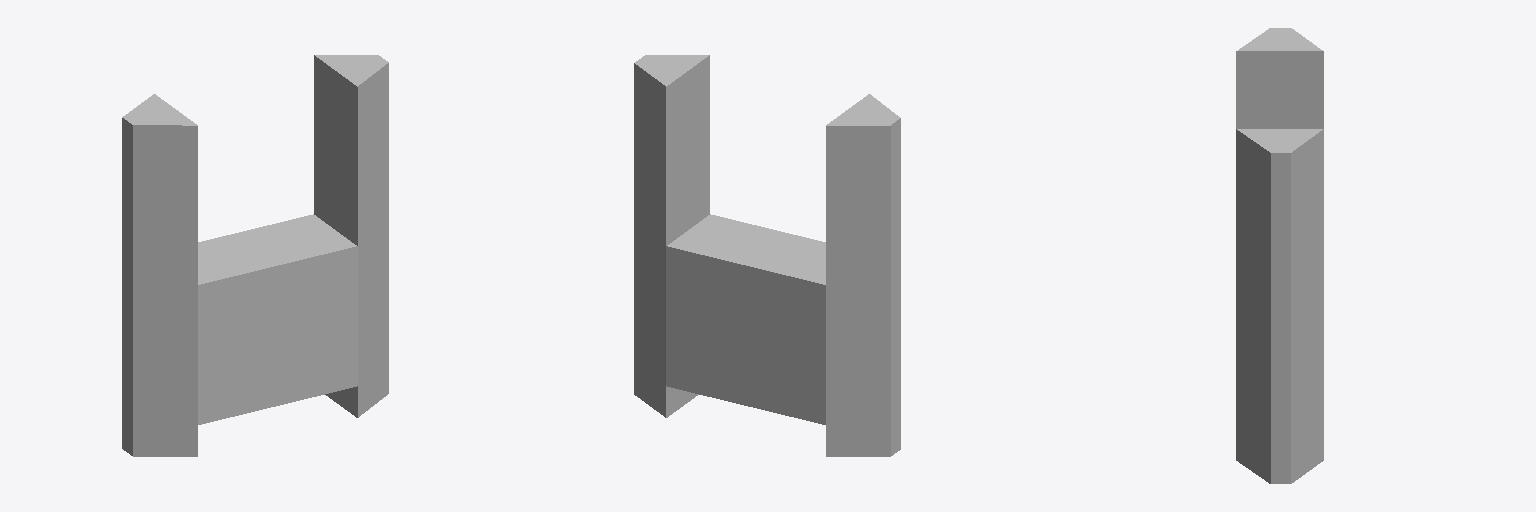
Rendered from ship.obj.
3 renders of one model, left to right at view 1: azimuth 30°, elevation 25°; view 2: azimuth 150°, elevation 25°; view 3: azimuth 270°, elevation 25°, orthographic.
Parts seen in each view (by area): view 1: Box001; view 2: Box001; view 3: Box001.
Boxes of the visible parts, x1=… form: Box001: x1=122, y1=55, x2=388, y2=456; Box001: x1=634, y1=55, x2=900, y2=456; Box001: x1=1236, y1=28, x2=1323, y2=483.
Size of the model in its own units: 0.373 by 0.4611 by 0.1103.